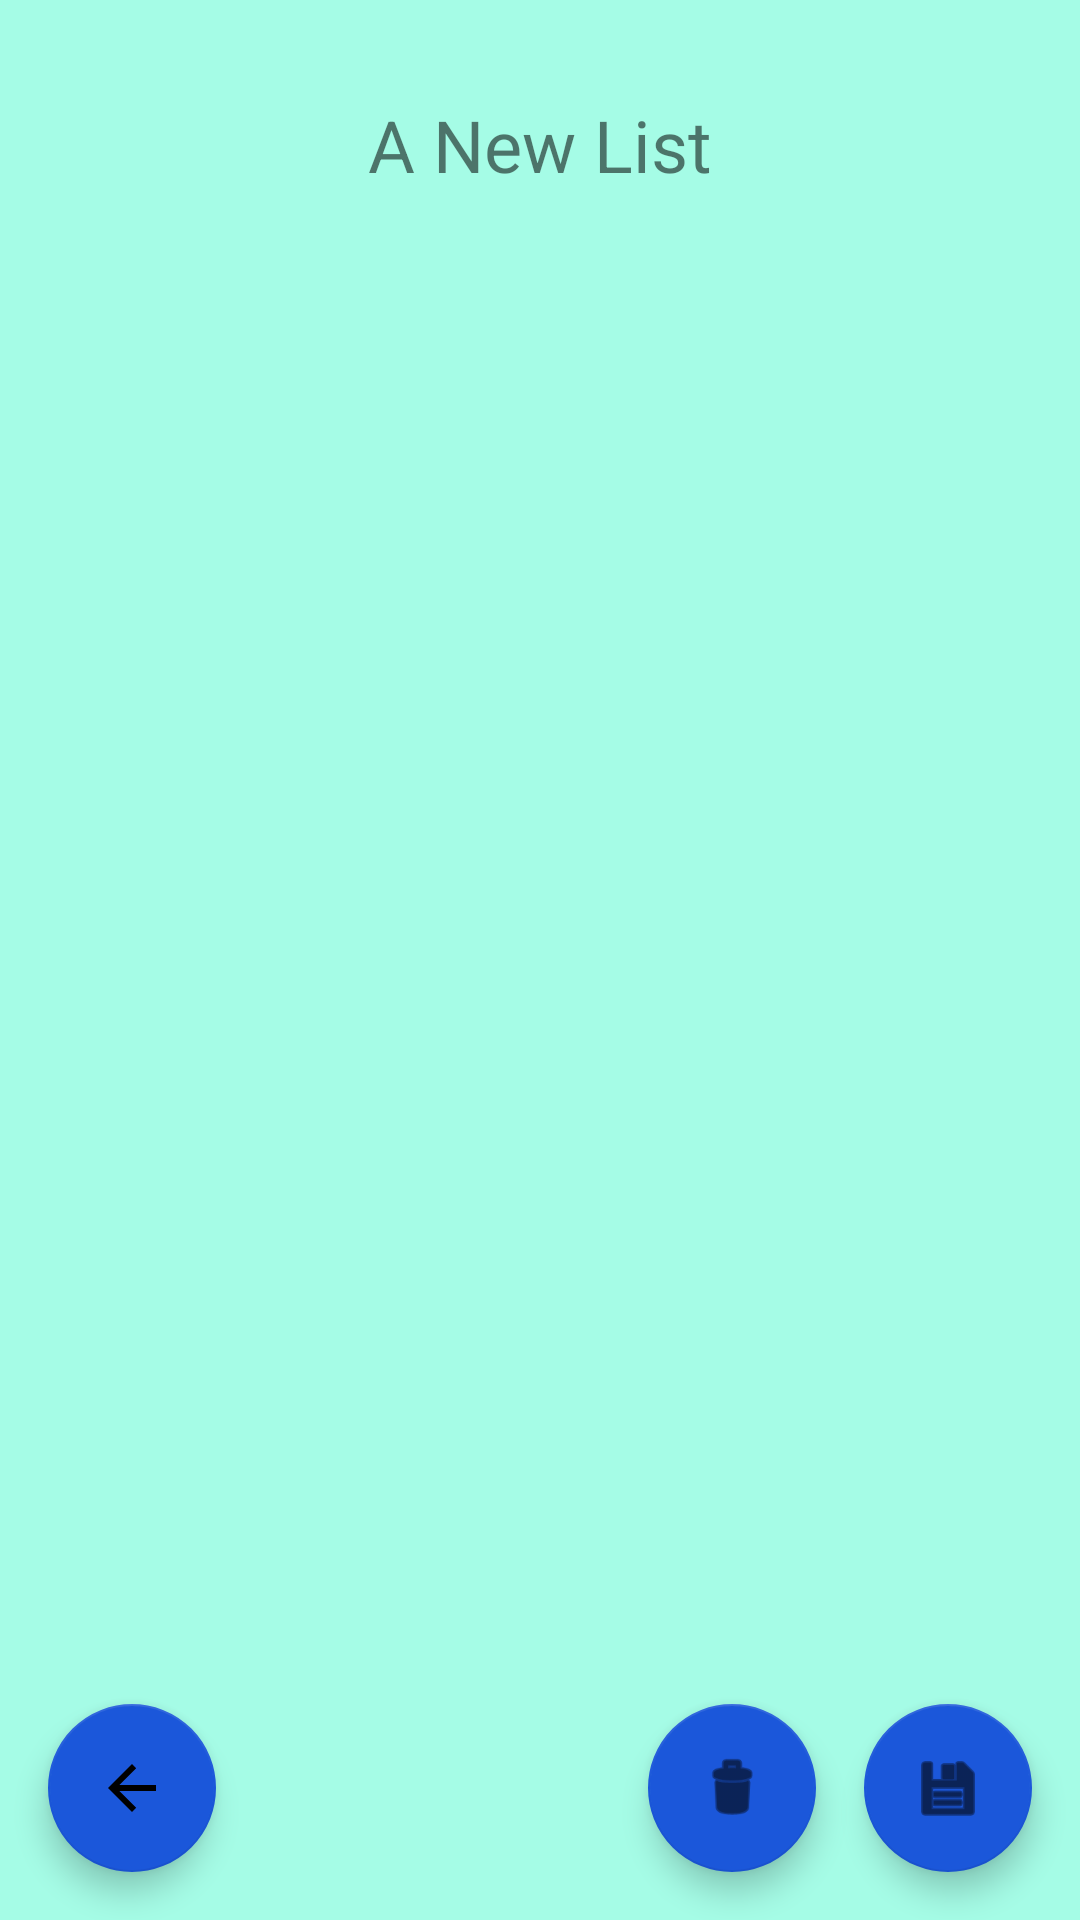

Named icons in this screenshot (1080 x 1920) and their centers, (x=x, y=y):
delete: (x=732, y=1788)
